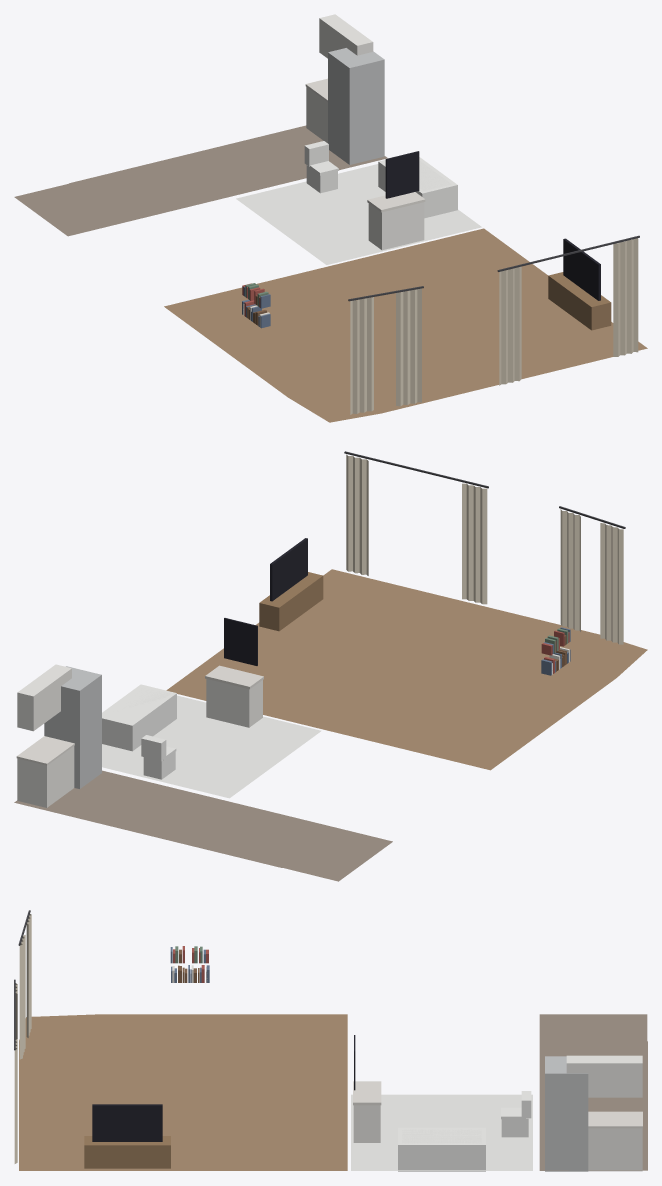
Rendered from fine-s1.glb.
3 views of the same model, one above another, from view 1: azimuth 30°, elevation 25°; view 2: azimuth 150°, elevation 25°; view 3: azimuth 270°, elevation 25° (orthographic).
Visible parts, largest first — view 1: soft-s1, fridge.000, vanity.000, tv-console.001, bathtub.000, kitchen-upper.000, toilet.000, counter-run.000; view 2: soft-s1, vanity.000, fridge.000, tv-console.001, bathtub.000, counter-run.000, kitchen-upper.000, toilet.000; view 3: soft-s1, tv-console.001, fridge.000, bathtub.000, counter-run.000, kitchen-upper.000, vanity.000, toilet.000.
Boxes of the visible parts, bbox=[...] form: soft-s1: bbox=[14, 125, 647, 422]; fridge.000: bbox=[328, 48, 384, 164]; vanity.000: bbox=[367, 151, 425, 250]; tv-console.001: bbox=[548, 238, 611, 330]; bathtub.000: bbox=[378, 157, 457, 218]; kitchen-upper.000: bbox=[319, 14, 373, 58]; toilet.000: bbox=[304, 141, 338, 193]; counter-run.000: bbox=[305, 78, 327, 143]; soft-s1: bbox=[14, 451, 647, 881]; vanity.000: bbox=[205, 618, 263, 727]; fridge.000: bbox=[44, 666, 101, 788]; tv-console.001: bbox=[259, 538, 323, 631]; bathtub.000: bbox=[102, 684, 176, 751]; counter-run.000: bbox=[16, 736, 74, 807]; kitchen-upper.000: bbox=[17, 664, 71, 731]; toilet.000: bbox=[141, 735, 176, 779]; soft-s1: bbox=[14, 910, 647, 1170]; tv-console.001: bbox=[84, 1104, 170, 1168]; fridge.000: bbox=[545, 1056, 588, 1171]; bathtub.000: bbox=[398, 1127, 485, 1171]; counter-run.000: bbox=[588, 1111, 642, 1171]; kitchen-upper.000: bbox=[566, 1055, 642, 1097]; vanity.000: bbox=[353, 1035, 381, 1142]; toilet.000: bbox=[501, 1091, 531, 1137].
Size of the model in its own units: 6.83 by 2.41 by 11.7.
